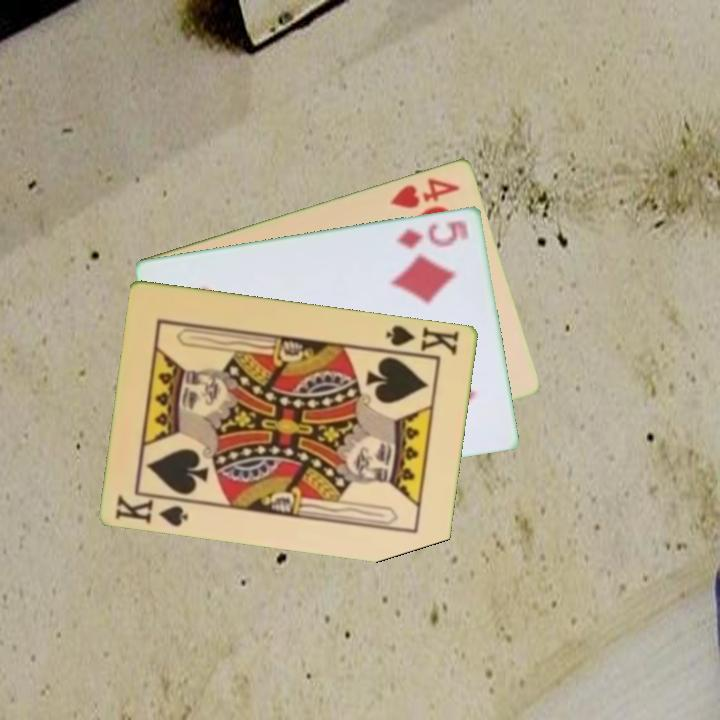4h: (387, 174, 463, 211)
5d: (392, 216, 472, 251)
Ks: (112, 490, 195, 529), (381, 321, 462, 359)
